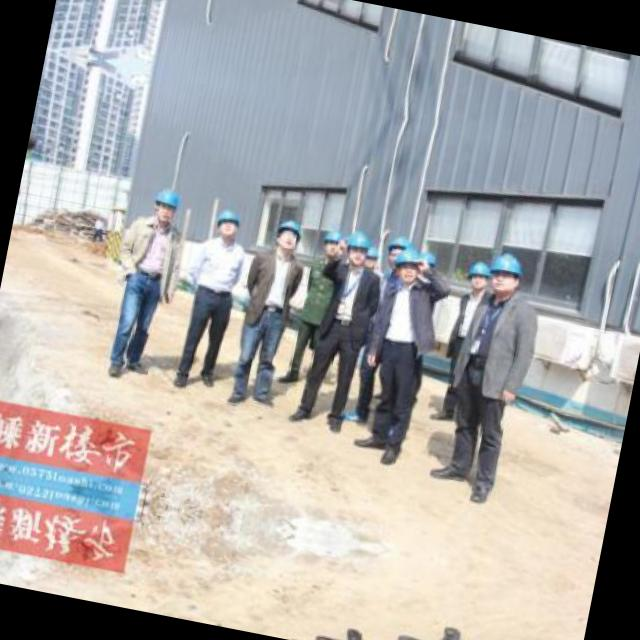helmet: (482, 242, 531, 300), (209, 203, 252, 245), (148, 181, 186, 226), (272, 213, 308, 255), (338, 225, 371, 269), (382, 231, 412, 273), (462, 256, 492, 297), (392, 246, 423, 284), (412, 244, 442, 280), (318, 224, 346, 260), (360, 244, 386, 272)
